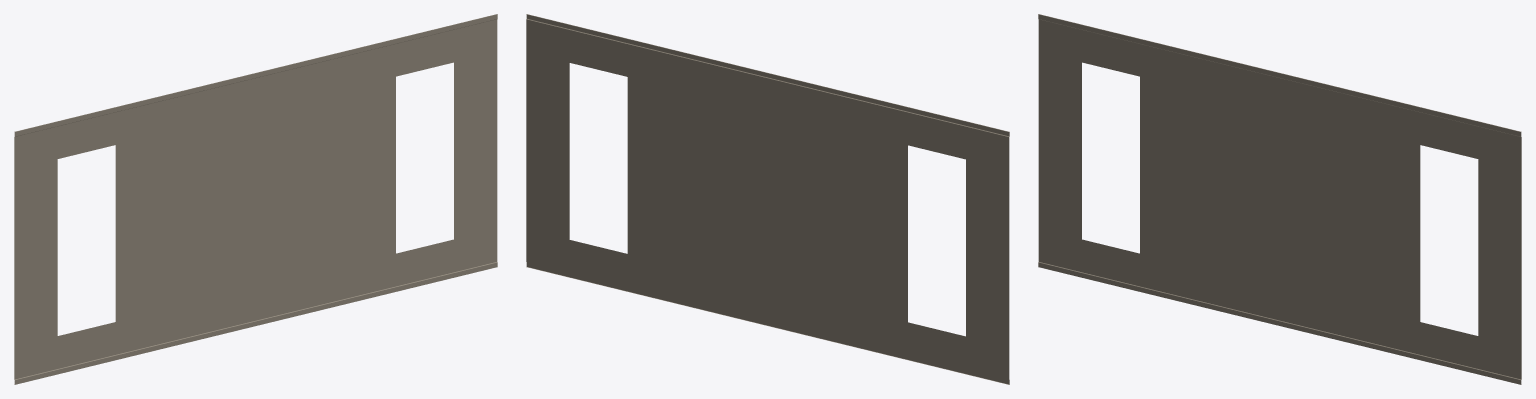
Rendered from Wall_10x5_2WindowsWithGap.fbx.
3 renders of one model, left to right at view 1: azimuth 30°, elevation 25°; view 2: azimuth 150°, elevation 25°; view 3: azimuth 330°, elevation 25°, orthographic.
Parts seen in each view (by area): view 1: Wall_10x5_2WindowsWithGap; view 2: Wall_10x5_2WindowsWithGap; view 3: Wall_10x5_2WindowsWithGap.
Boxes of the visible parts, box(x1,y1,x2,y2) form: Wall_10x5_2WindowsWithGap: box(14, 14, 497, 384); Wall_10x5_2WindowsWithGap: box(526, 14, 1009, 384); Wall_10x5_2WindowsWithGap: box(1038, 14, 1521, 384).
Bounding box in the file's own units: 10 × 5 × 0.015.
